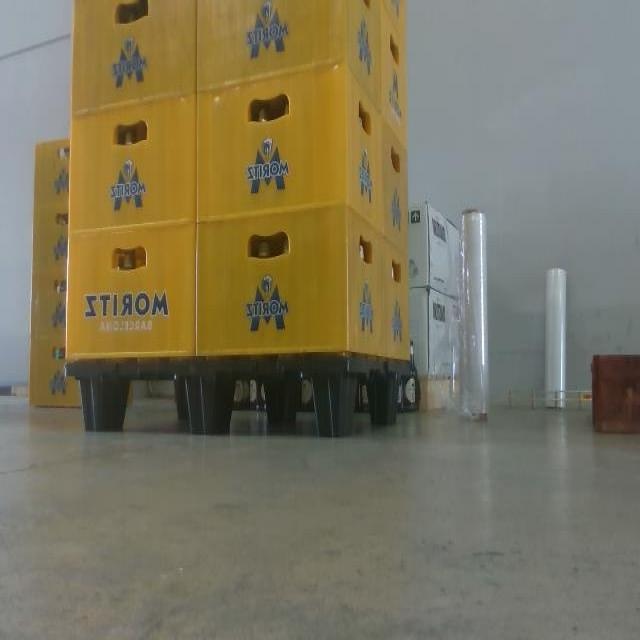block: (71, 362, 125, 436), (178, 368, 233, 438), (311, 371, 351, 439), (261, 371, 298, 418), (373, 370, 404, 424)
front: (63, 358, 356, 444)
